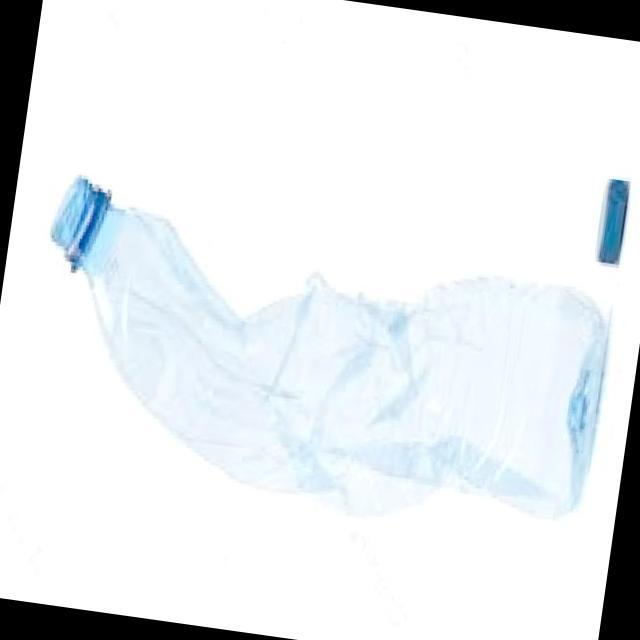defected: (4, 98, 628, 556)
